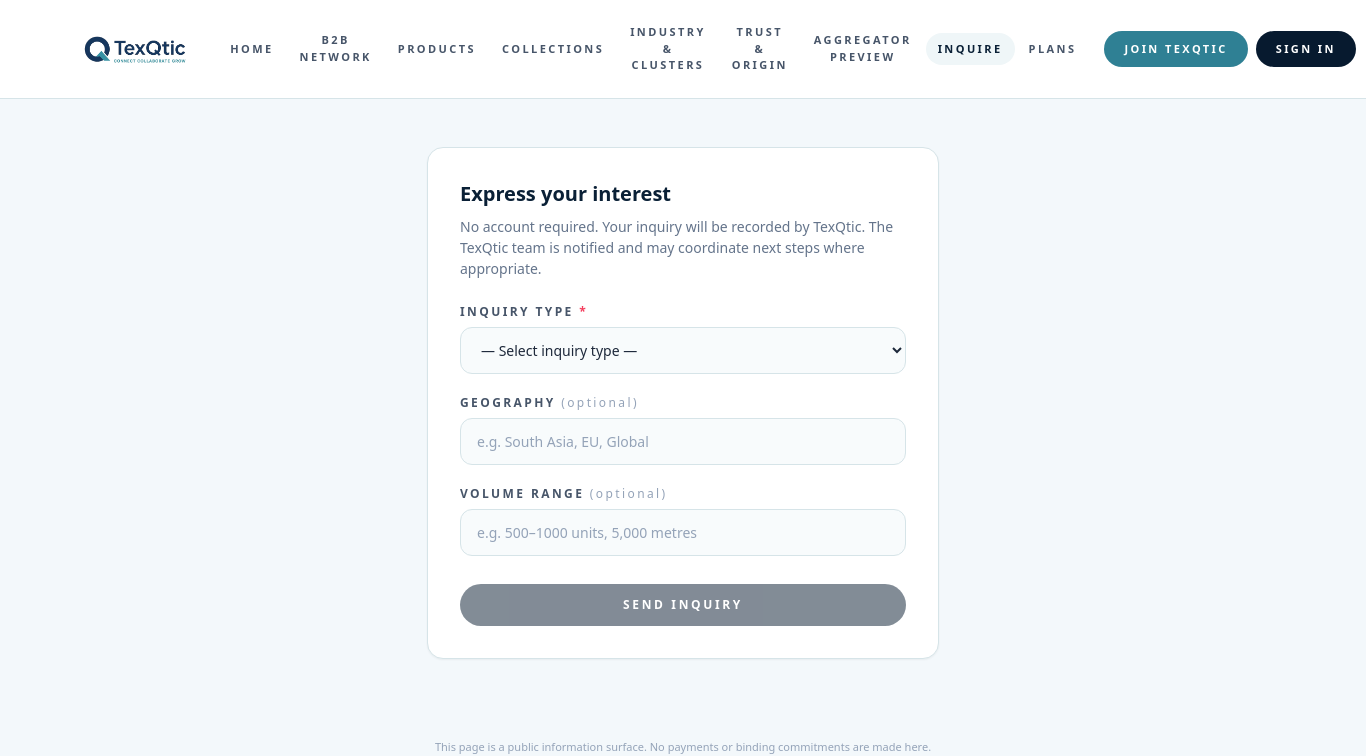
PublicInquiryPage › PII-007 — 429 error → rate-limit message
Step 1. Select "General enquiry" in the dropdown labelled "Inquiry type *" → (683, 350), box [460, 326, 906, 374]
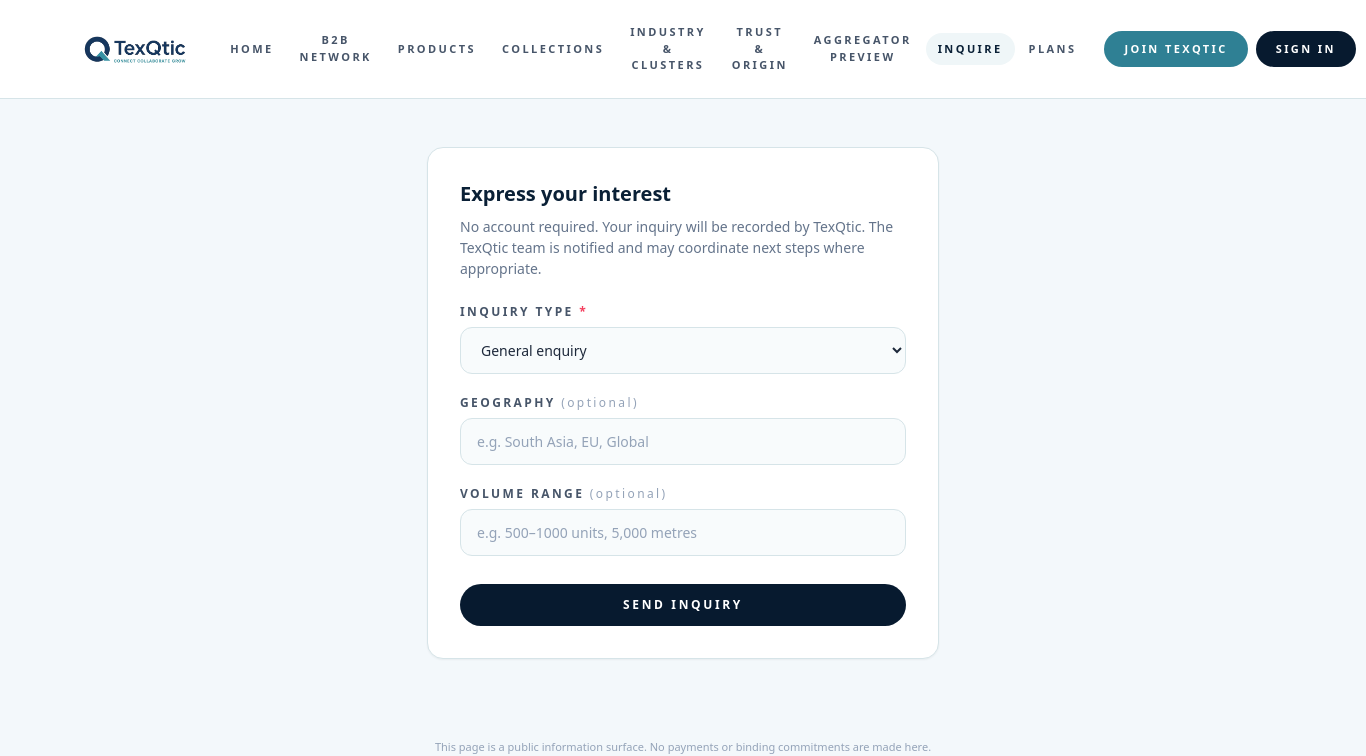
Step 2. Click the button "Send inquiry" → (683, 604), box [460, 584, 906, 626]
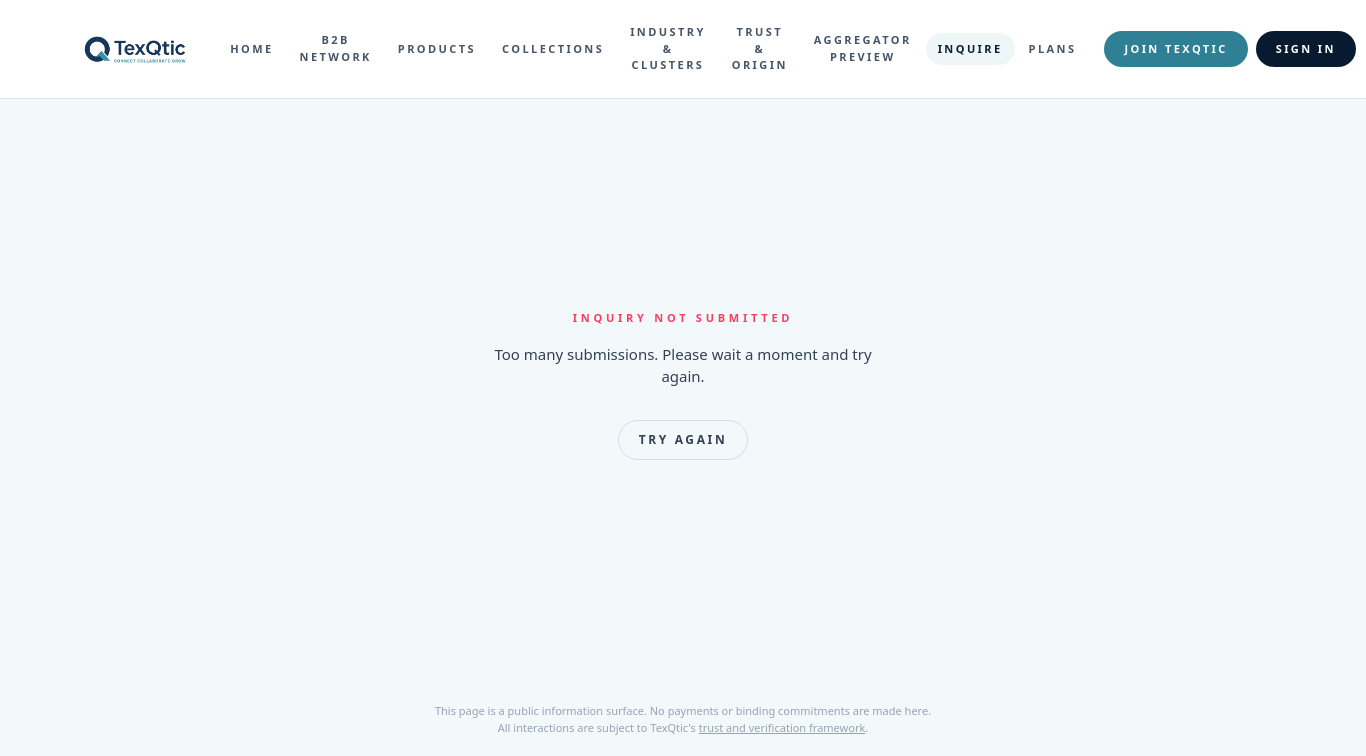
Now the text "Too many submissions. Please wait a moment and try again." is shown, box [491, 342, 875, 388]
